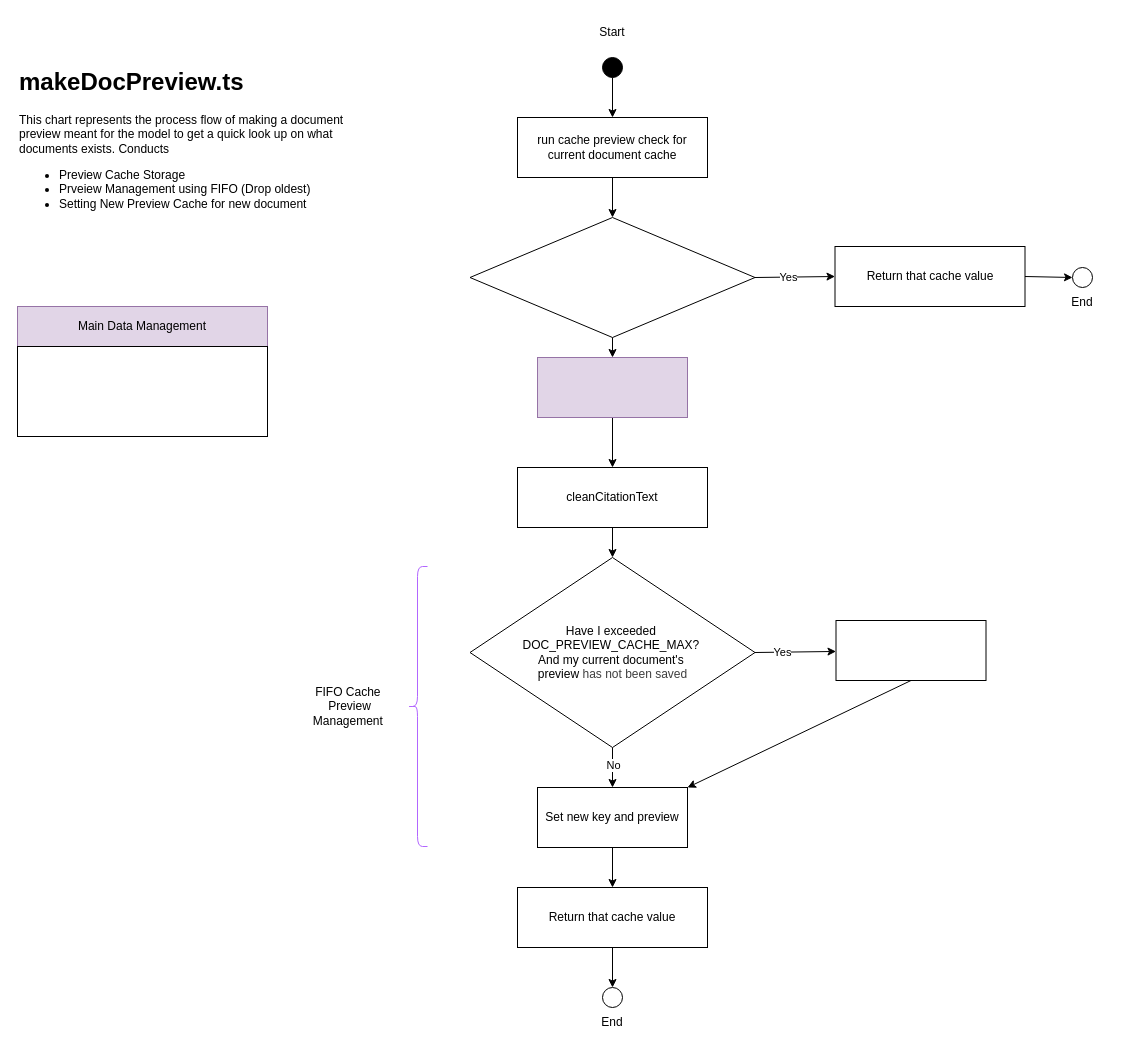
Some shapes in this 1130 by 1054 pixel diagram are drawn without their labels. Here are the shapes that lost their labels. From the top down, the centre of each, then its label:
pixel 612 277: Does this document already have a cache?
pixel 142 391: previewCache = { file_id: [0:300] clean document slice }
pixel 612 387: parseFile
pixel 910 650: Delete Oldest Key
